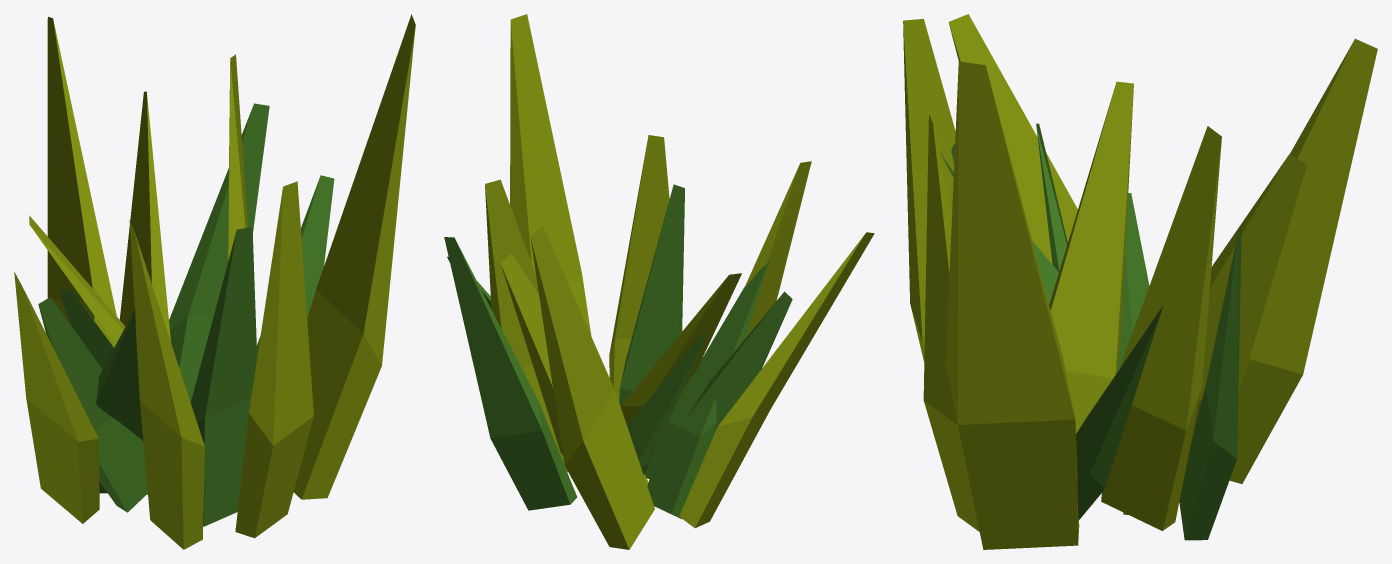
File: Grass.fbx
3 renders of one model, left to right at view 1: azimuth 30°, elevation 25°; view 2: azimuth 150°, elevation 25°; view 3: azimuth 270°, elevation 25°, orthographic. The views are drawn at different scales.
Parts seen in each view (by area): view 1: Grass; view 2: Grass; view 3: Grass.
Boxes of the visible parts, x1=… form: Grass: x1=14, y1=14, x2=415, y2=549; Grass: x1=444, y1=14, x2=874, y2=549; Grass: x1=903, y1=14, x2=1377, y2=549.
Bounding box in the file's own units: 125 × 144 × 110.
